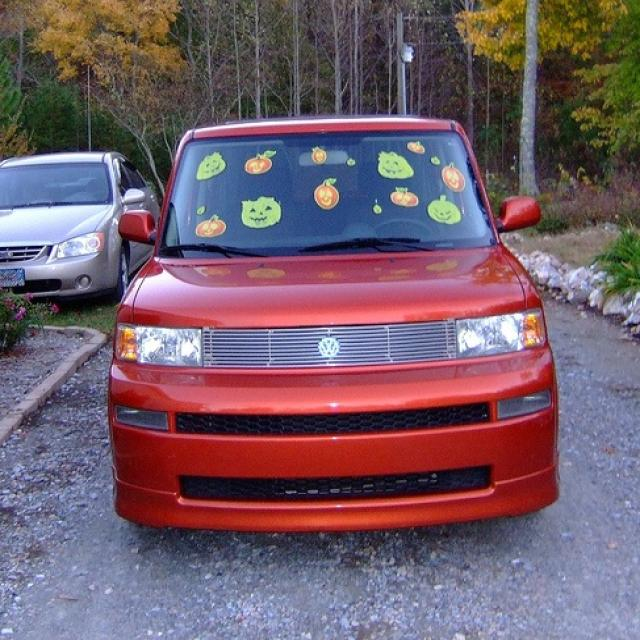car: (109, 118, 570, 544), (1, 143, 162, 319)
